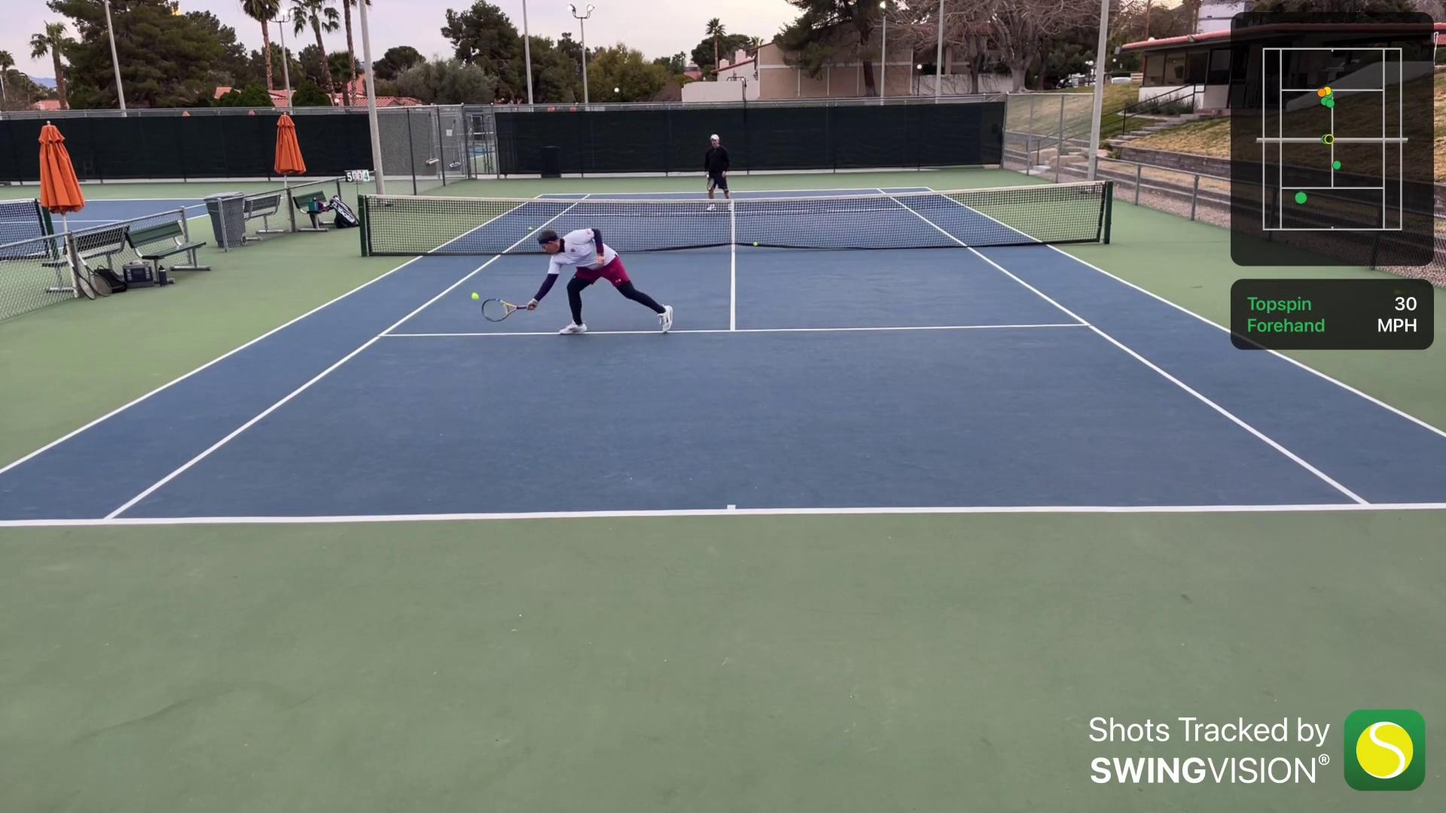ball: (470, 291, 481, 302), (751, 241, 758, 247), (526, 225, 532, 231)
